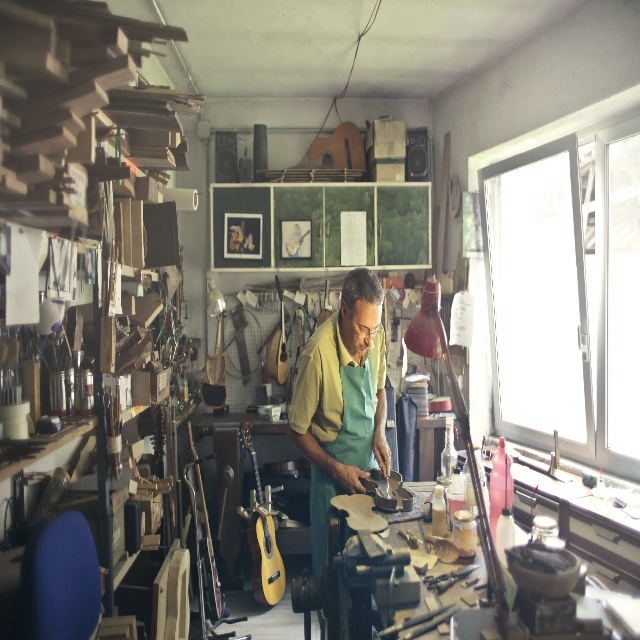Gafas: (346, 303, 383, 337)
Sin_guantes: (339, 464, 371, 495), (372, 433, 392, 479)
